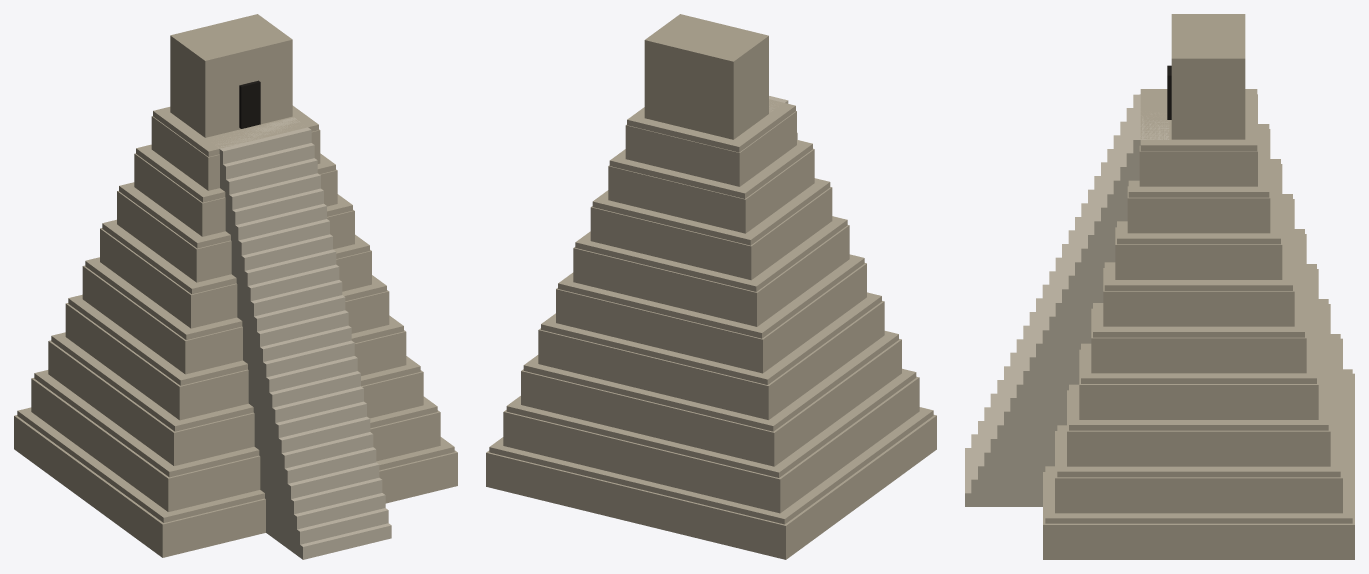
Rendered from meso-coba-iglesia-ruin.glb.
3 renders of one model, left to right at view 1: azimuth 30°, elevation 25°; view 2: azimuth 150°, elevation 25°; view 3: azimuth 270°, elevation 25°, orthographic. The views are drawn at different scales.
Parts seen in each view (by area): view 1: meso-body, meso-stair, meso-shrine, meso-door; view 2: meso-body, meso-shrine; view 3: meso-body, meso-stair, meso-shrine.
Boxes of the visible parts, left/top/right/bottom form: meso-body: left=14, top=105, right=457, bottom=557; meso-stair: left=215, top=117, right=391, bottom=559; meso-shrine: left=170, top=14, right=292, bottom=137; meso-door: left=239, top=80, right=260, bottom=128; meso-body: left=486, top=99, right=936, bottom=559; meso-shrine: left=644, top=14, right=768, bottom=139; meso-body: left=1043, top=89, right=1354, bottom=559; meso-stair: left=965, top=94, right=1169, bottom=506; meso-shrine: left=1171, top=14, right=1245, bottom=139.
Bounding box in the file's own units: 21.2 × 29.28 × 23.1.
